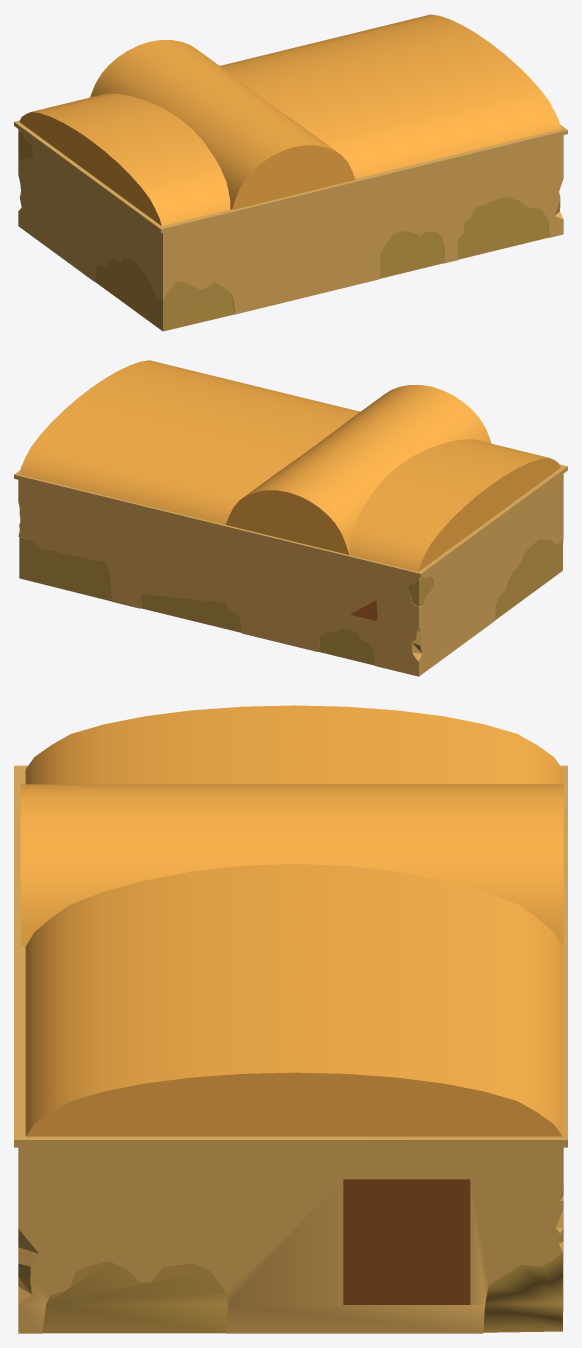
The model's file is Tunisia_House_A.fbx.
3 renders of one model, top to bottom at view 1: azimuth 30°, elevation 25°; view 2: azimuth 150°, elevation 25°; view 3: azimuth 270°, elevation 25°, orthographic. The views are drawn at different scales.
Visible parts, largest first — view 1: Tunisia_House_A; view 2: Tunisia_House_A; view 3: Tunisia_House_A.
Part boxes in pixels (x1,y1,x2,y2): Tunisia_House_A: (14,14,567,331); Tunisia_House_A: (14,360,567,676); Tunisia_House_A: (14,705,567,1333).
Bounding box in the file's own units: 1278 × 458 × 800.
